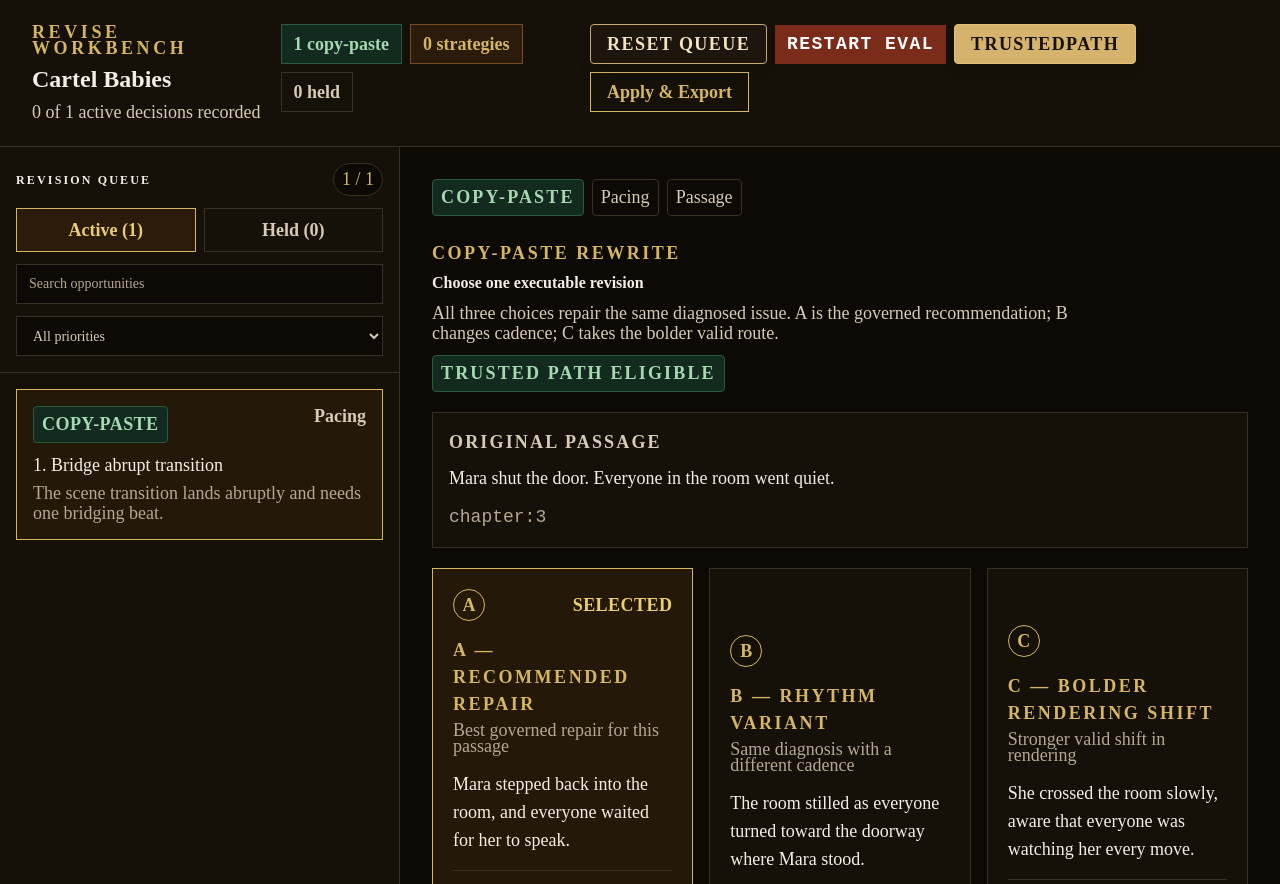
ReviseCockpitClientWorkflowV2 › distinguishes a filtered queue from a genuinely empty queue
Type "not-present" into the field labelled "Search opportunities".
click(200, 284); type("not-present")  # box [16, 264, 383, 304]
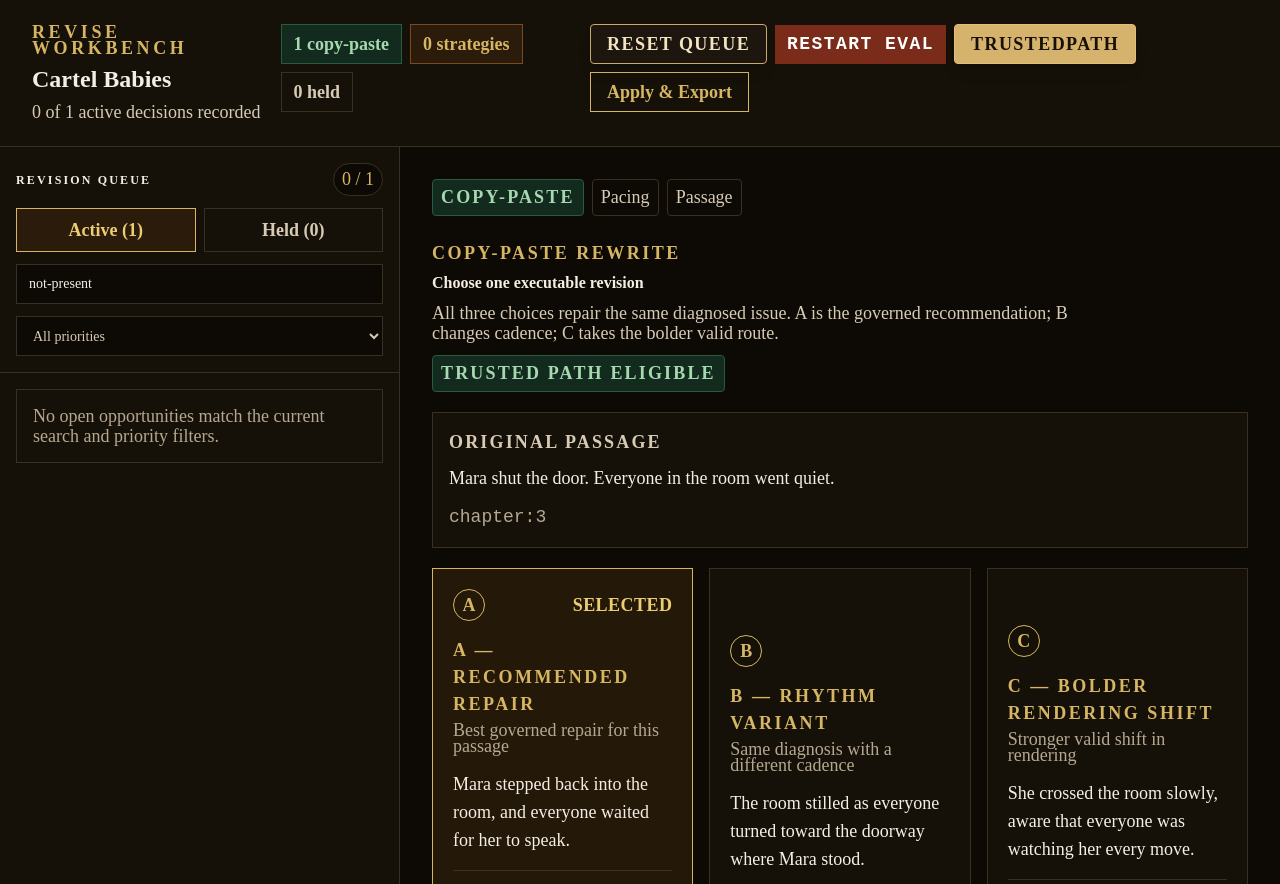
Result: the list item "No open opportunities match the current search and priority filters" is shown at [33, 406, 324, 446]
